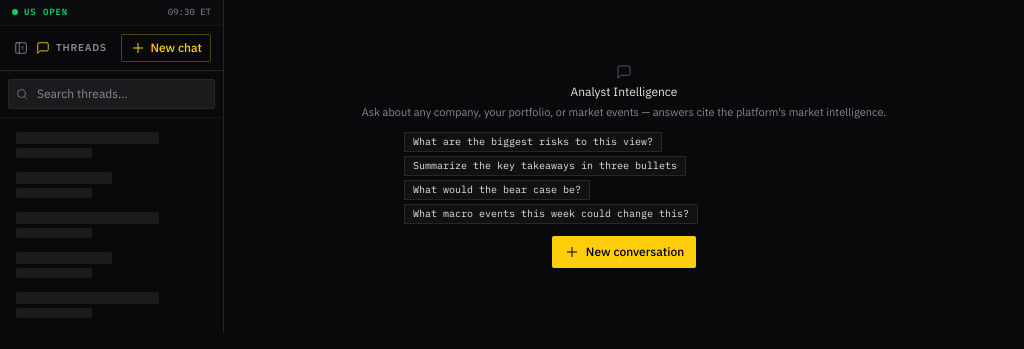
Scenario: Context-aware starters › renders 4 entity-tailored questions after resolving UUID → ticker (QA-iter1 MAJ-5)
The width and height of the screenshot is (1024, 349).
// Click new chat to land on the empty thread + starters
Click the button with aria-label "start new chat": (166, 48) top-left (121, 34), bottom-right (211, 62)
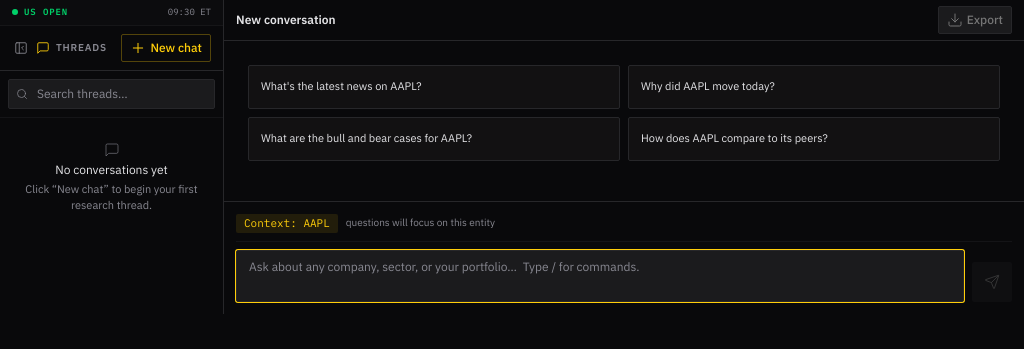
expect the button "What's the latest news on AAPL?" is shown: met, box top-left (248, 65), bottom-right (620, 109)
expect the button "Why did AAPL move today?" is shown: met, box top-left (628, 65), bottom-right (1000, 109)
expect the button "What are the bull and bear cases for AAPL?" is shown: met, box top-left (248, 117), bottom-right (620, 161)
